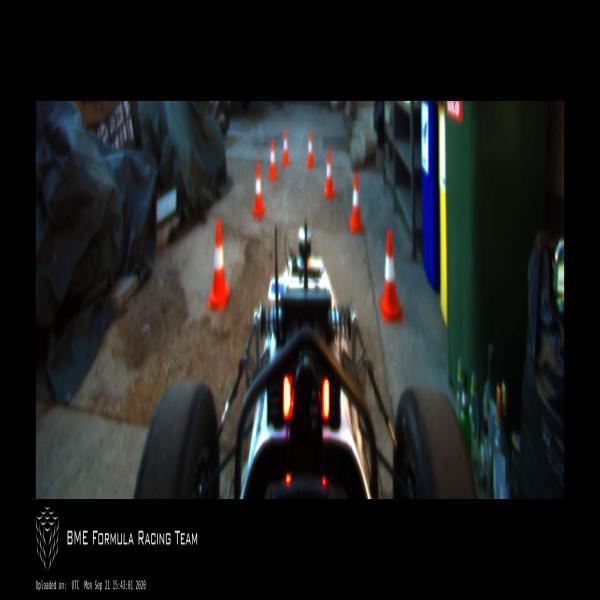orange_cone: (379, 228, 402, 322), (207, 219, 230, 310), (349, 171, 364, 234), (252, 162, 264, 219), (323, 150, 335, 199), (268, 140, 277, 180), (282, 128, 290, 166), (306, 131, 314, 168)
